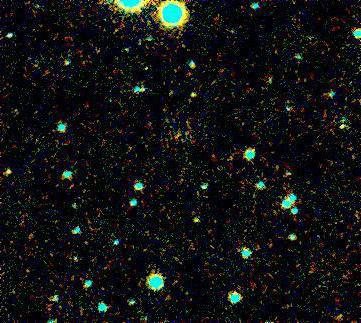star: (180, 77, 210, 107)
